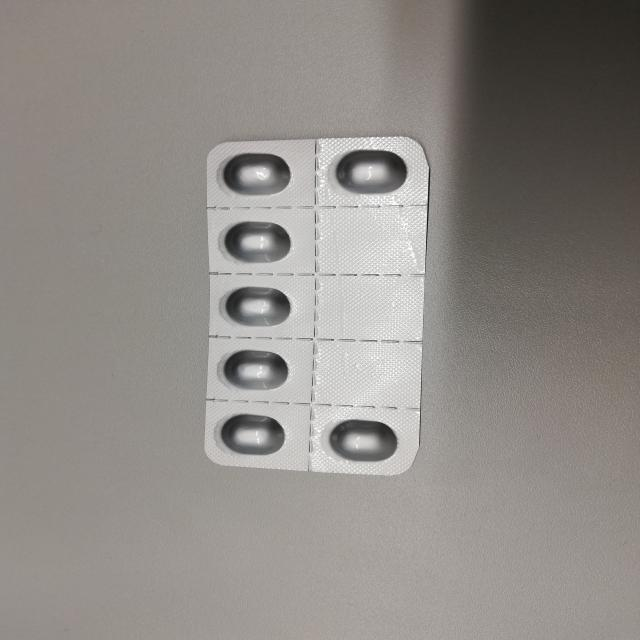Pill: (210, 408, 296, 462), (322, 147, 409, 199), (218, 215, 304, 267), (322, 414, 406, 465), (220, 279, 298, 332), (217, 153, 300, 200), (216, 347, 292, 393)
